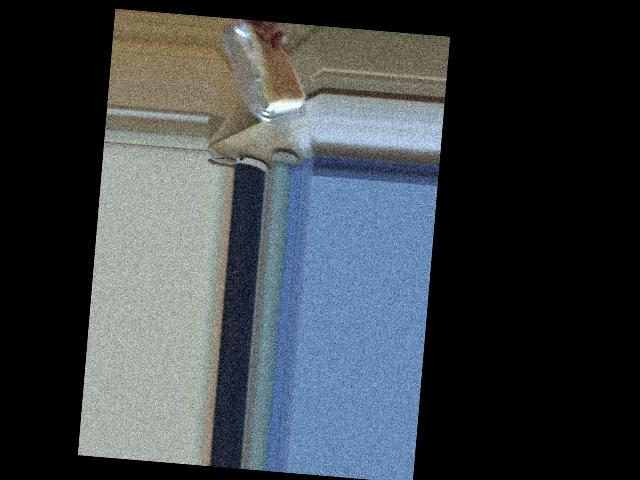cheese: (230, 56, 298, 116)
